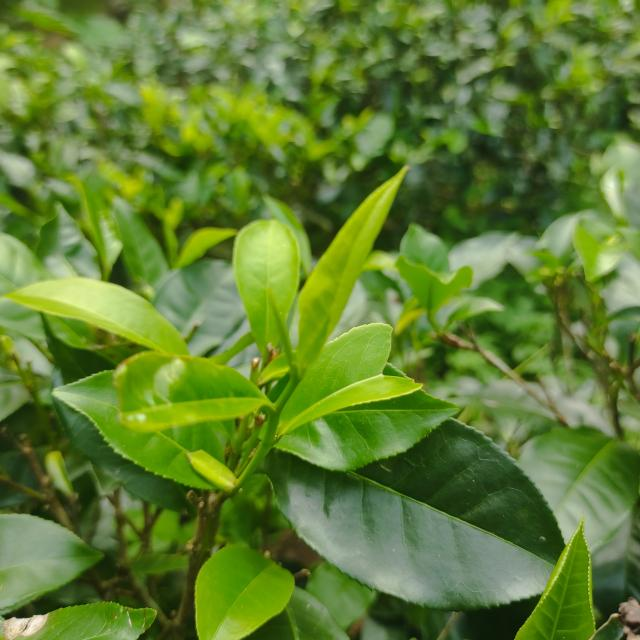unopened_leaf: (259, 276, 300, 382)
